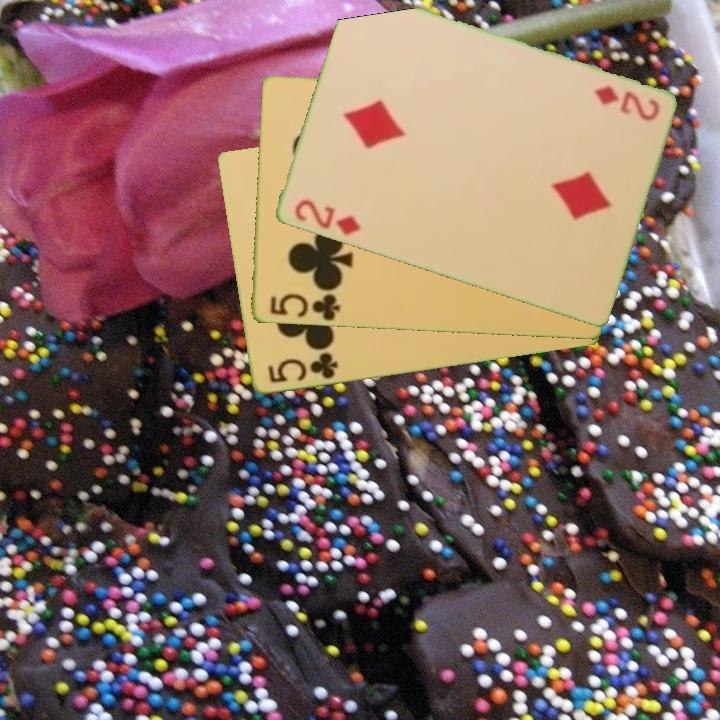2d: (290, 196, 363, 239), (591, 82, 662, 124)
5c: (264, 349, 341, 386), (266, 287, 342, 323)
